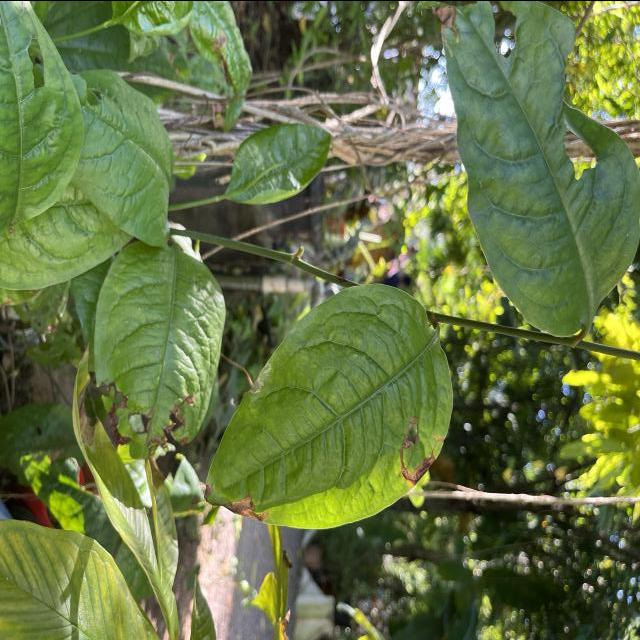Plumbago indica: (440, 0, 640, 341), (195, 279, 457, 532), (88, 240, 228, 460), (66, 61, 178, 248), (223, 118, 338, 208)
